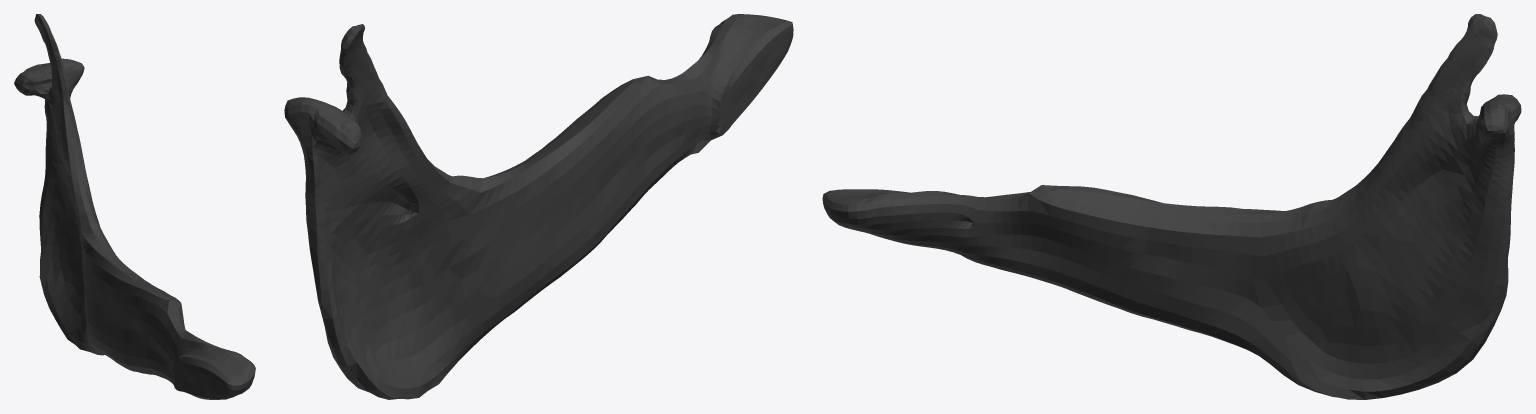
File: L_hemimandible.glb
3 renders of one model, left to right at view 1: azimuth 30°, elevation 25°; view 2: azimuth 150°, elevation 25°; view 3: azimuth 270°, elevation 25°, orthographic. The views are drawn at different scales.
Visible parts, largest first — view 1: L_hemimandible; view 2: L_hemimandible; view 3: L_hemimandible.
Part boxes in pixels (left/top/right/bottom): L_hemimandible: left=14, top=14, right=255, bottom=399; L_hemimandible: left=284, top=14, right=793, bottom=399; L_hemimandible: left=822, top=14, right=1521, bottom=399.
Size of the model in its own units: 1.14 by 2.86 by 4.72.
Materials: 1 (1 with a texture image).
